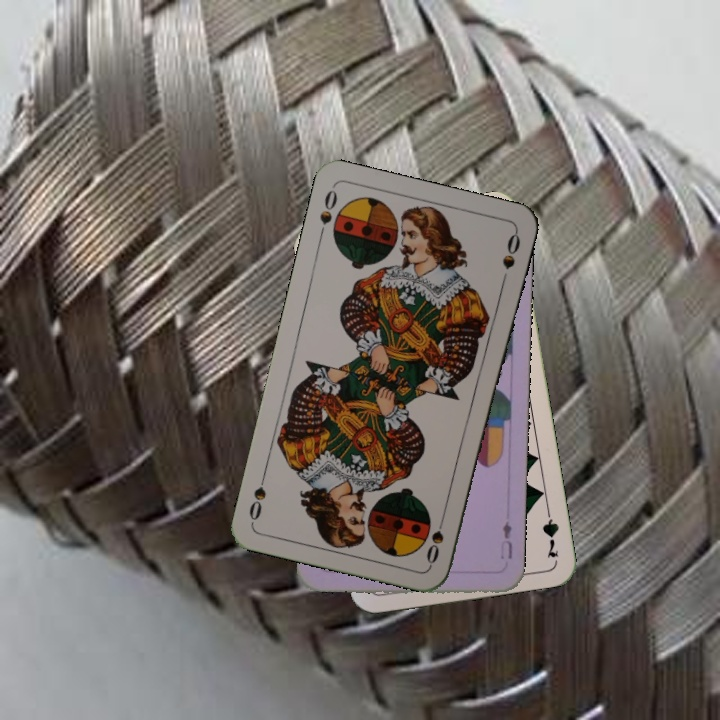EU: (496, 517, 515, 562)
G7: (538, 501, 562, 560)
SO: (422, 509, 448, 567), (315, 186, 340, 242)
